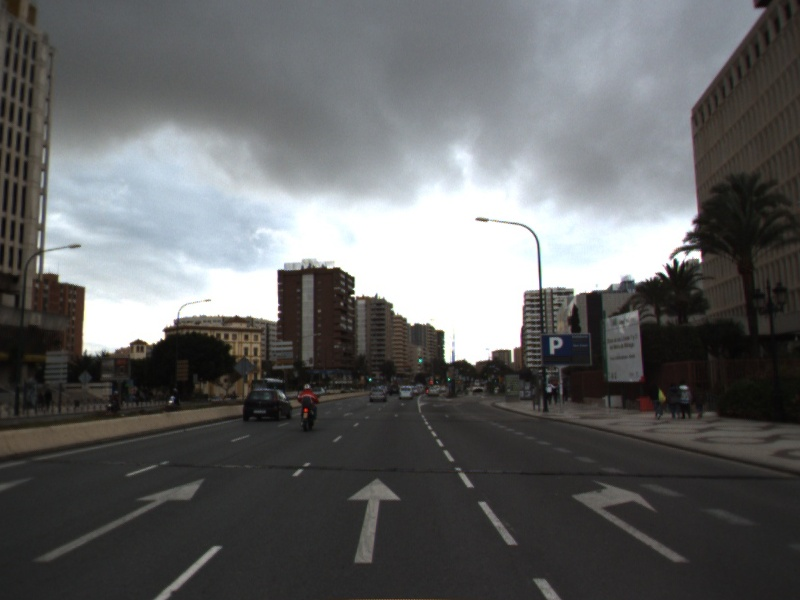RIGHT: (570, 477, 694, 565)
STRAIGHT: (30, 476, 207, 564), (345, 476, 403, 565)
